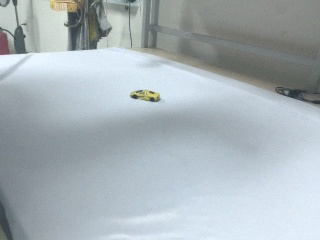toy_car: (130, 90, 160, 101)
